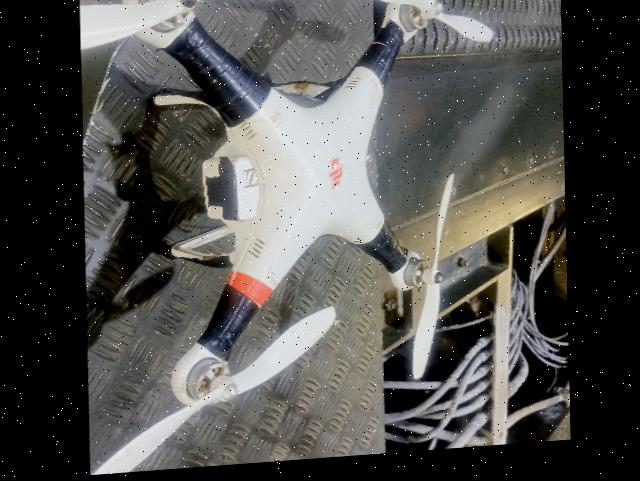drone: (79, 0, 506, 476)
